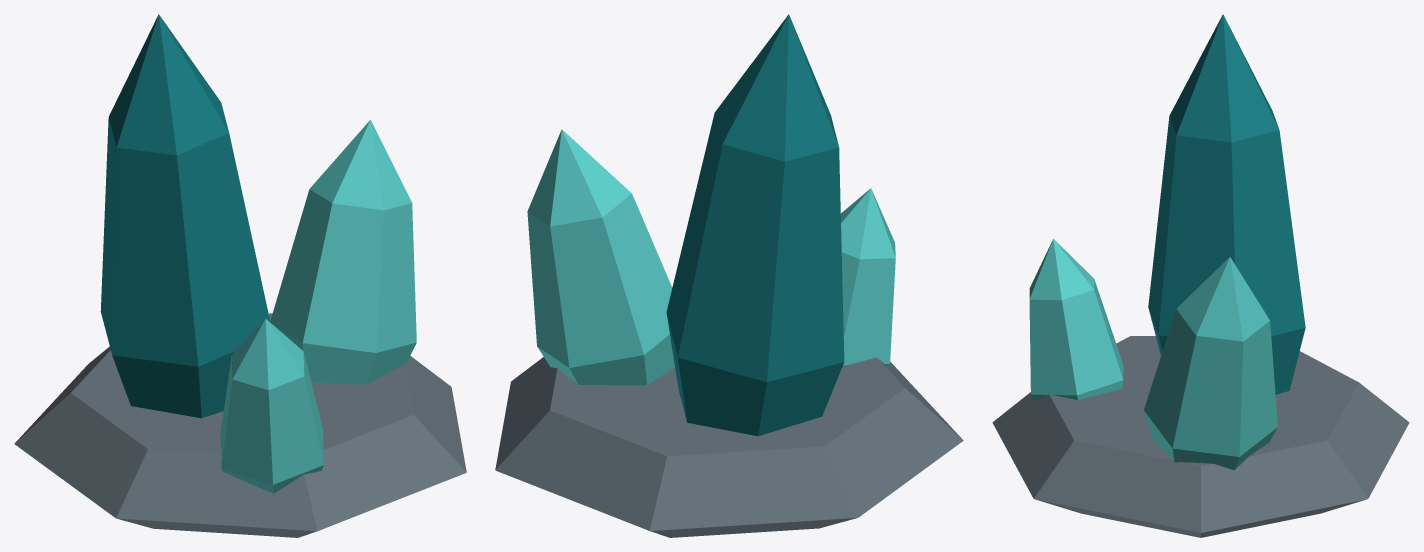
File: 12_Crystal_Cluster.glb
3 views of the same model, side by side, from view 1: azimuth 30°, elevation 25°; view 2: azimuth 150°, elevation 25°; view 3: azimuth 270°, elevation 25° (orthographic). The views are drawn at different scales.
Visible parts, largest first — view 1: 12_Crystal_Cluster__Body; view 2: 12_Crystal_Cluster__Body; view 3: 12_Crystal_Cluster__Body.
Part boxes in pixels (box(x1,y1,x2,y2)): 12_Crystal_Cluster__Body: box(14, 14, 466, 537); 12_Crystal_Cluster__Body: box(495, 14, 963, 537); 12_Crystal_Cluster__Body: box(992, 14, 1409, 537).
Bounding box in the file's own units: 1.81 × 2.08 × 1.85.
1 material, 1 textured.
